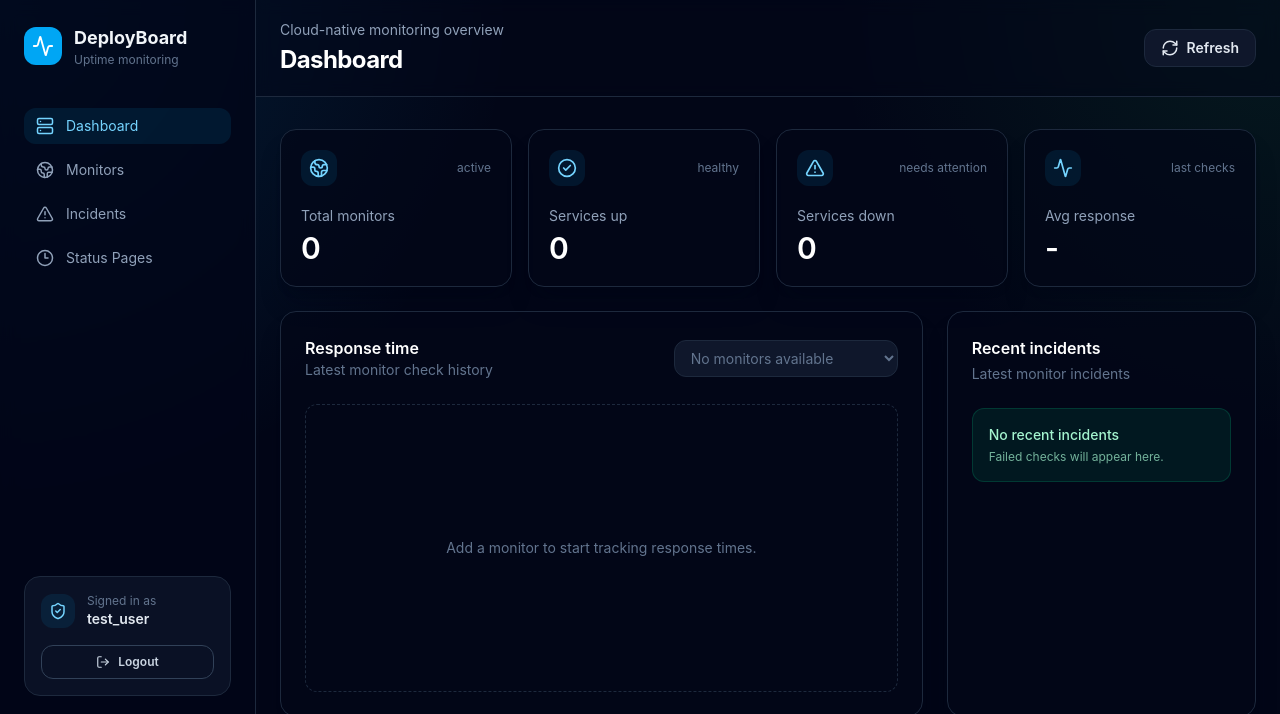
dashboard views › shows create-monitor-first status-page guidance with no monitors
Expected: the heading "Dashboard" is shown, x1=280 y1=45 x2=403 y2=74
Click the button "Status Pages".
click(128, 258)  # box x1=24 y1=240 x2=231 y2=276
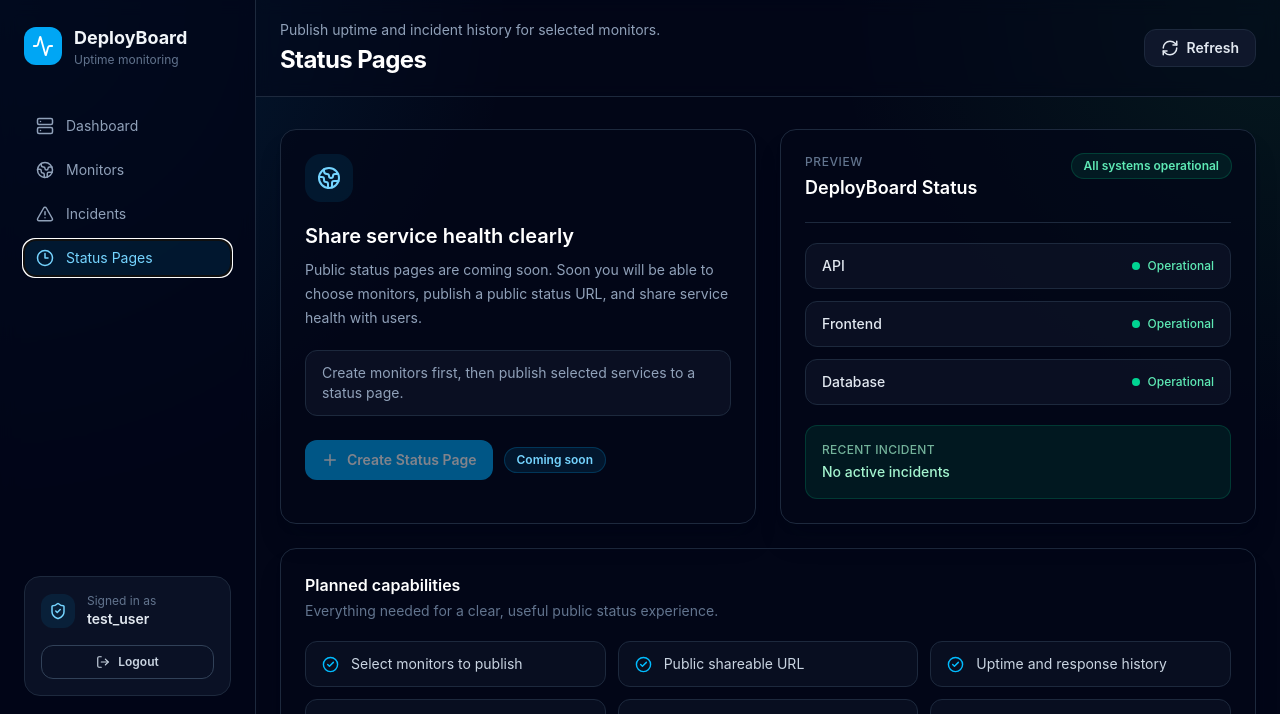
Expected: the text "Create monitors first, then publish selected services to a status page." is shown, x1=305 y1=350 x2=731 y2=416
